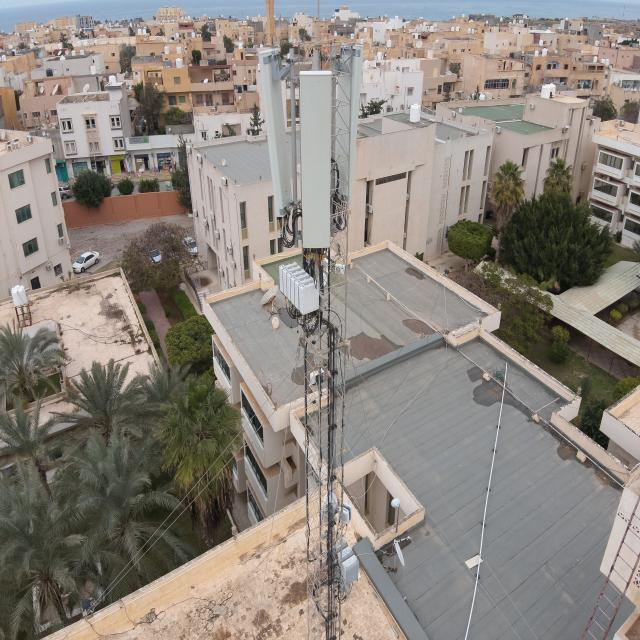antenna: (298, 66, 338, 255), (257, 48, 298, 216), (337, 45, 362, 201)
lighnig-rad: (312, 2, 324, 55)
microware-dish: (321, 488, 352, 526)
power-box: (330, 530, 364, 587)
radio-unit: (278, 263, 320, 317)
